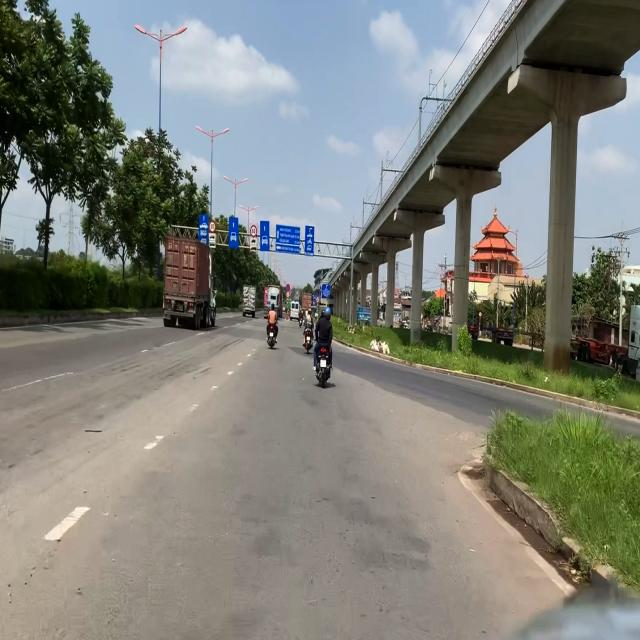Toc do toi da: (250, 225, 257, 237), (210, 221, 216, 233)
